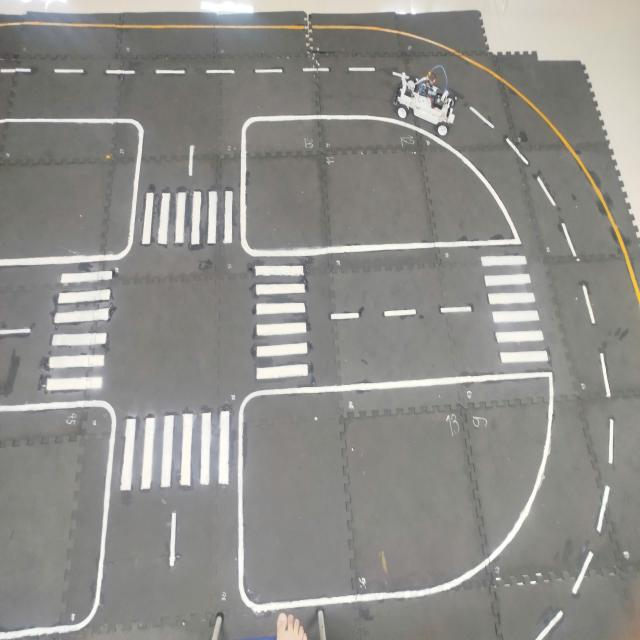SiCo-CAR: (392, 66, 458, 137)
